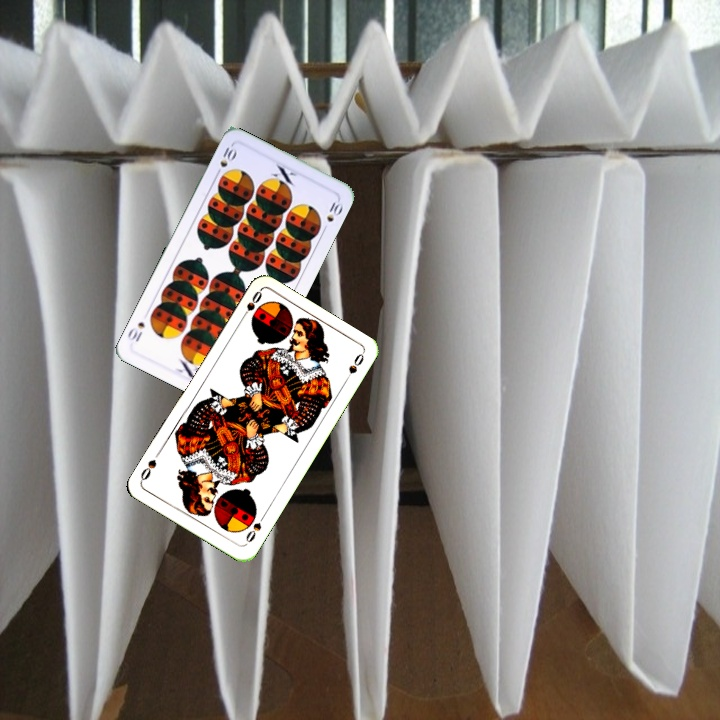S10: (211, 141, 239, 179)
SO: (237, 287, 265, 324), (242, 511, 268, 545)
